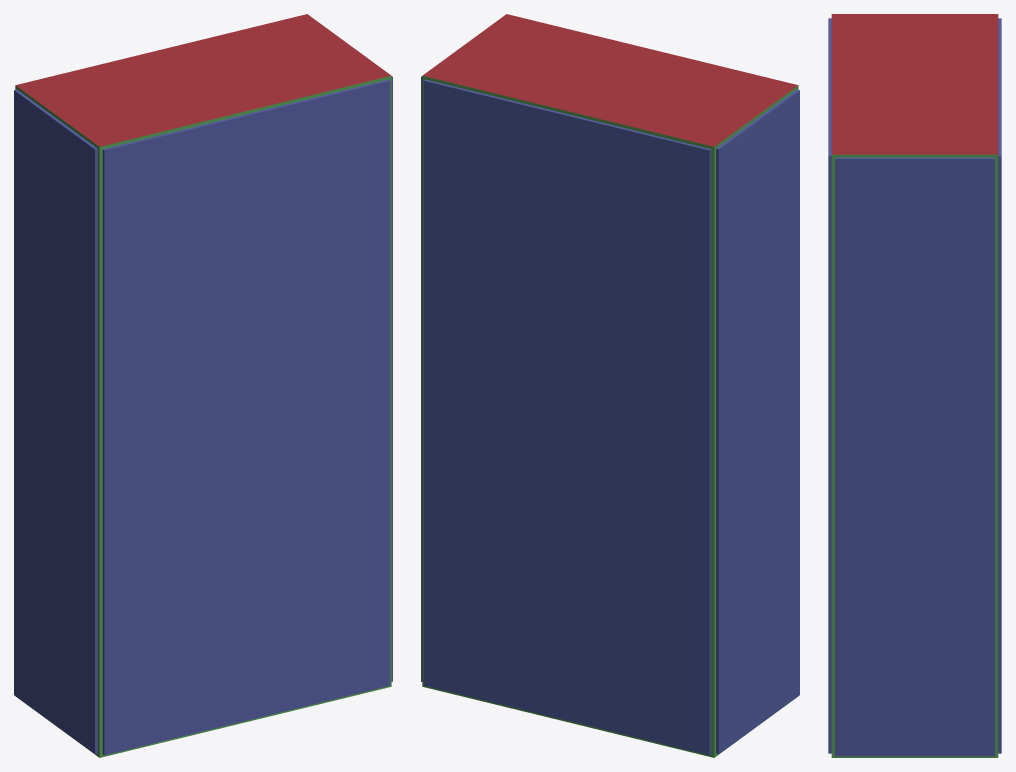
The model's file is SM_Wall_2x4_01.fbx.
3 views of the same model, side by side, from view 1: azimuth 30°, elevation 25°; view 2: azimuth 150°, elevation 25°; view 3: azimuth 270°, elevation 25° (orthographic).
Parts seen in each view (by area): view 1: SM_Wall_2x4_01; view 2: SM_Wall_2x4_01; view 3: SM_Wall_2x4_01.
Part boxes in pixels (x1=…): SM_Wall_2x4_01: x1=14, y1=14, x2=392, y2=757; SM_Wall_2x4_01: x1=421, y1=14, x2=799, y2=757; SM_Wall_2x4_01: x1=828, y1=14, x2=1001, y2=757.
Size of the model in its own units: 204 by 400 by 104.
